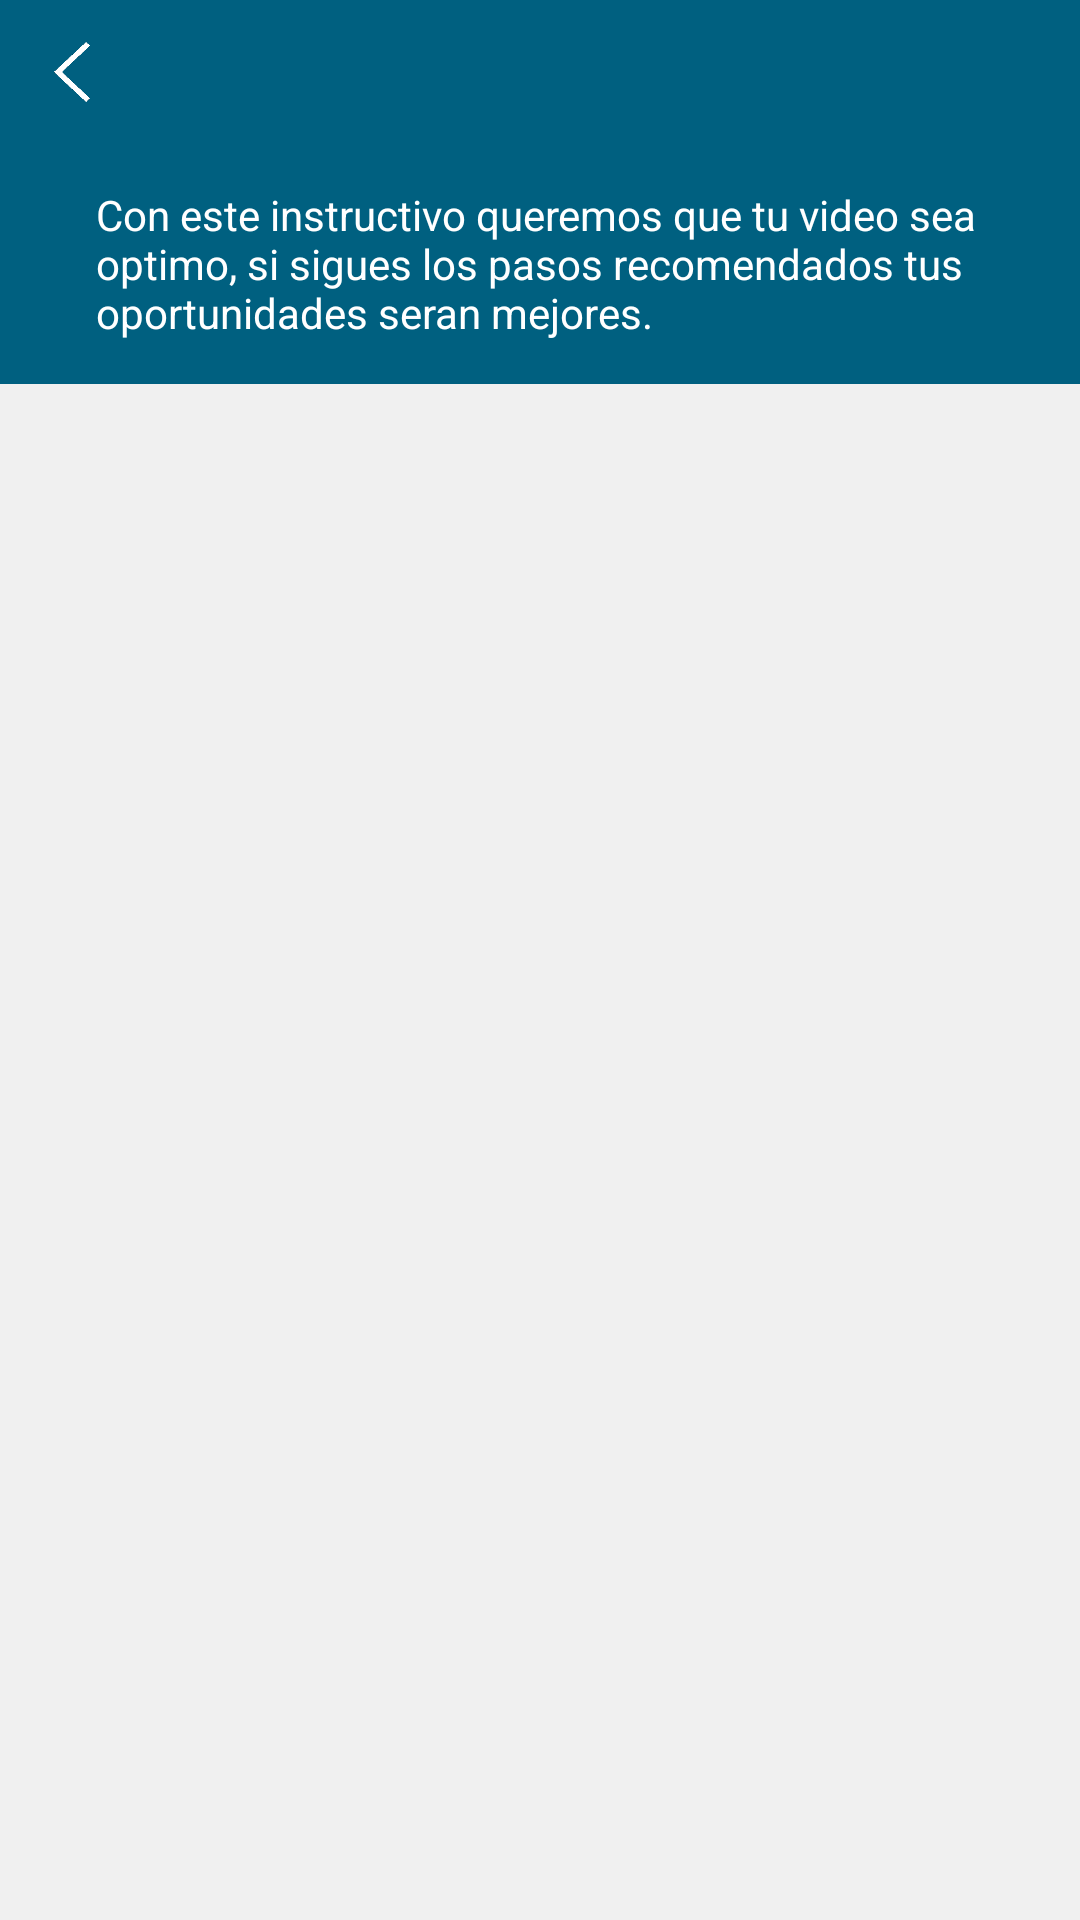

Icons on this 1080×1920 Android screen, each with its box as [x1=x1, y1=y1, x2=x2, y2=y2]:
left arrow: [x1=54, y1=42, x2=90, y2=102]
